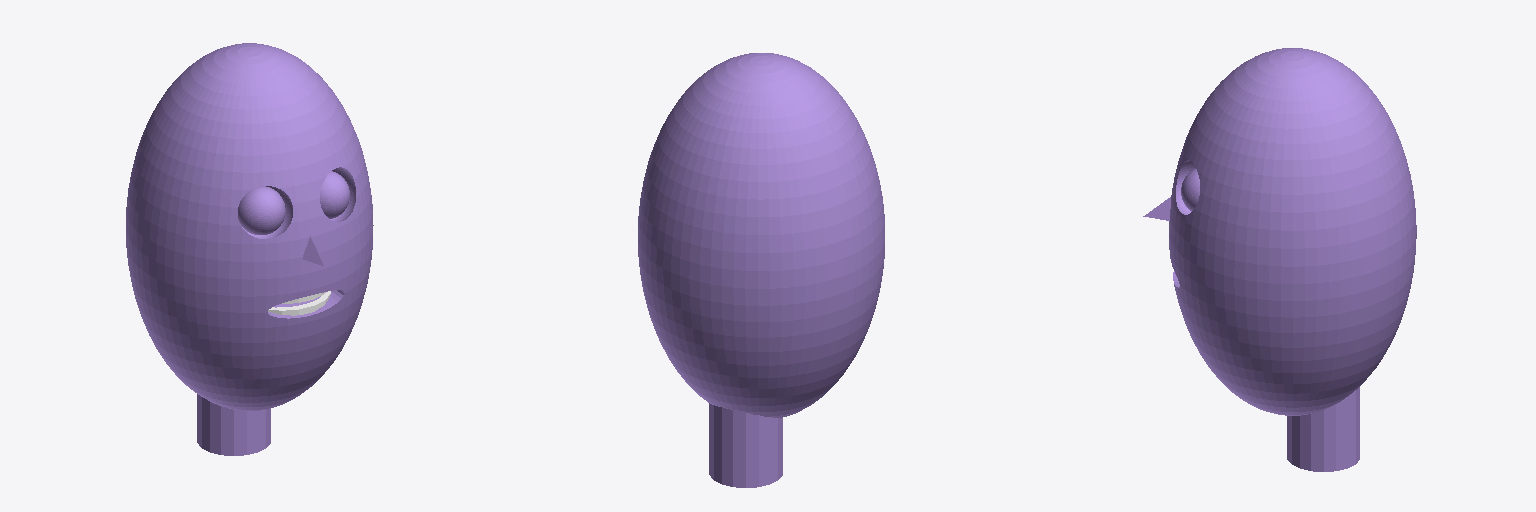
Rendered from testFaceDefault.obj.
The picture shows the model from 3 angles: view 1: azimuth 30°, elevation 25°; view 2: azimuth 150°, elevation 25°; view 3: azimuth 270°, elevation 25°; orthographic projection.
Visible parts, largest first — view 1: Sphere001, TeethLower; view 2: Sphere001; view 3: Sphere001.
Part boxes in pixels (left/top/right/bottom): Sphere001: left=126, top=43, right=373, bottom=455; TeethLower: left=268, top=291, right=330, bottom=315; Sphere001: left=638, top=53, right=884, bottom=487; Sphere001: left=1143, top=48, right=1416, bottom=471.
Bounding box in the file's own units: 20 × 35.7 × 22.06.